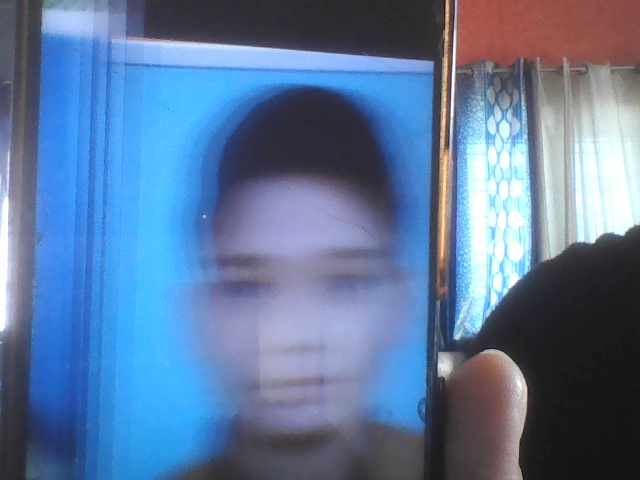fake: (164, 81, 442, 475)
